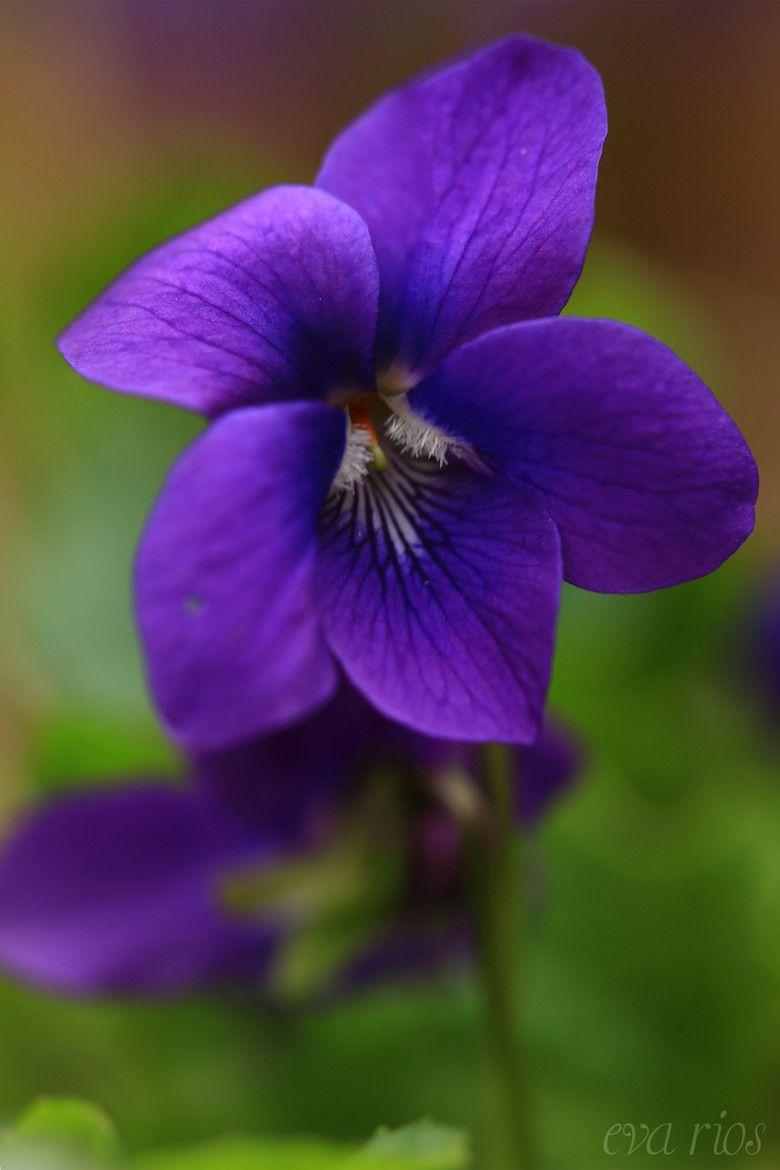violet: (79, 35, 767, 790)
